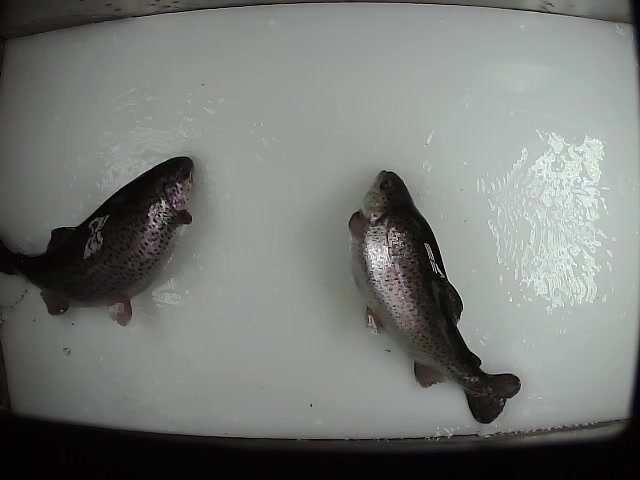fish: (346, 167, 522, 425), (1, 155, 197, 332)
